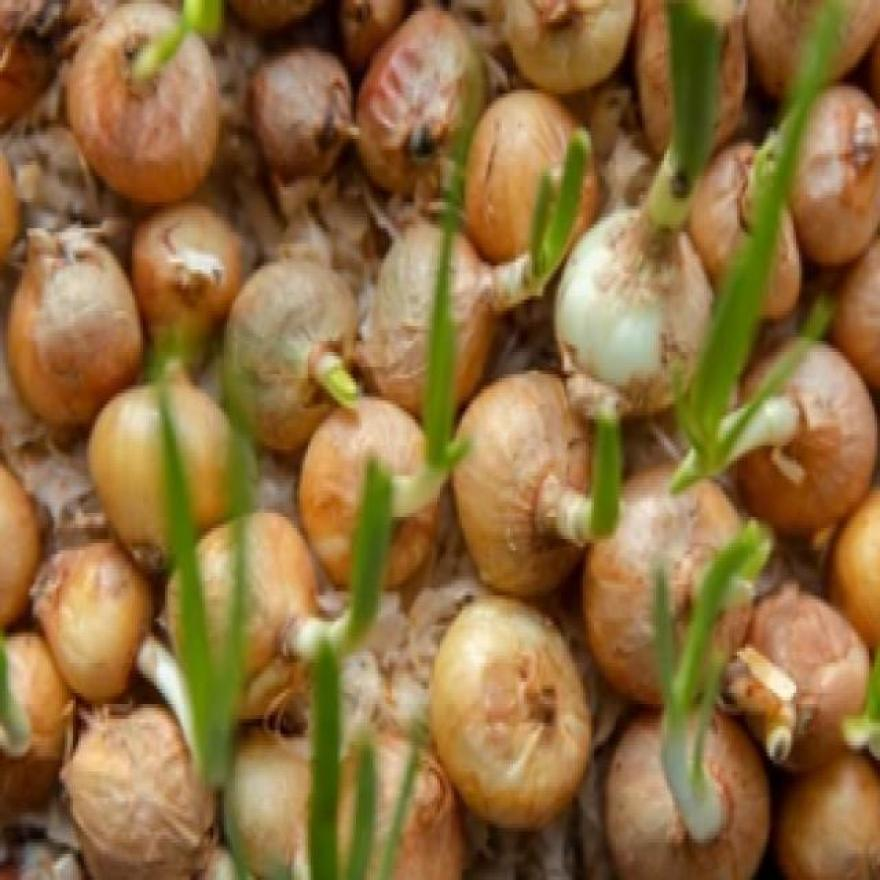Sprouted: (494, 213, 583, 289), (674, 715, 724, 850), (675, 397, 810, 446), (656, 75, 694, 221), (561, 454, 616, 554), (296, 591, 352, 678), (129, 12, 179, 90)
